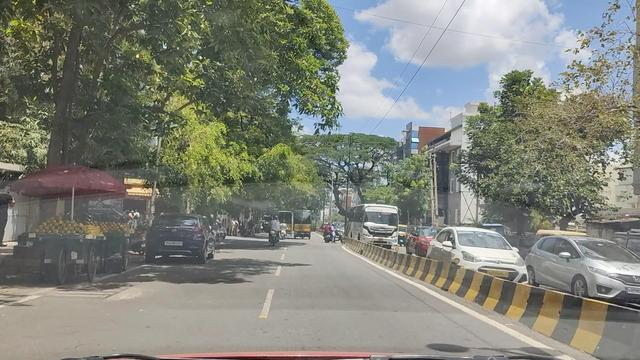LMV: (144, 213, 211, 261), (266, 210, 283, 242)
